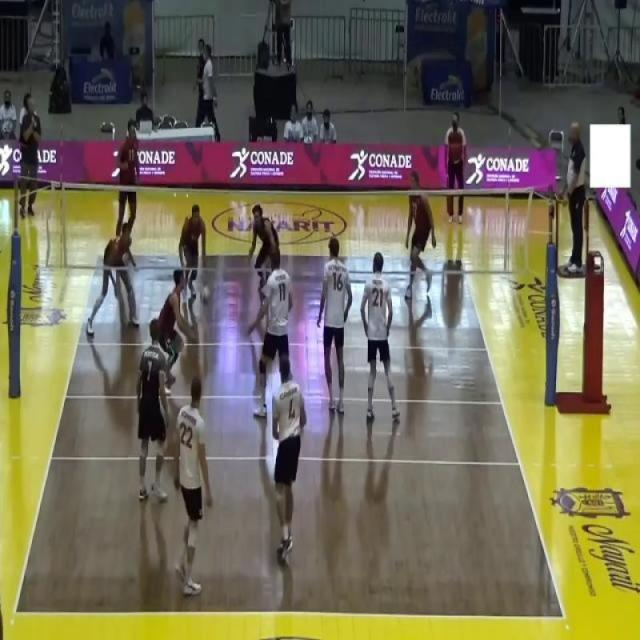volleyball: (199, 284, 211, 304)
